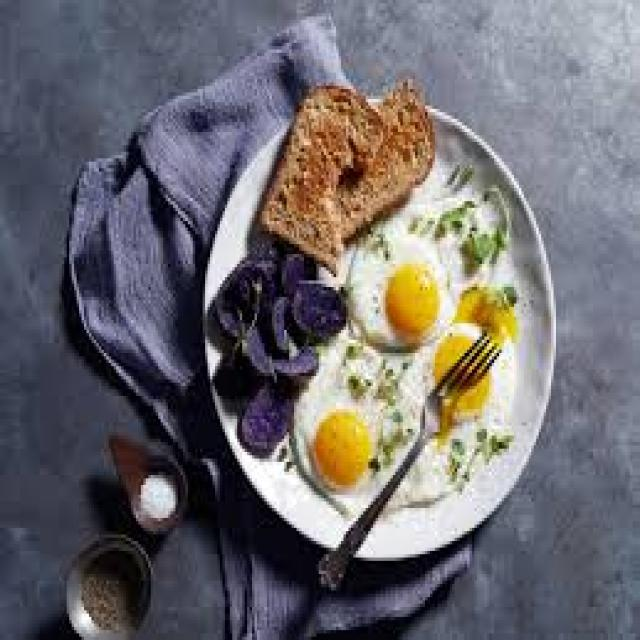Bread: (259, 83, 434, 271)
Egg: (294, 327, 434, 515), (349, 235, 450, 350)
